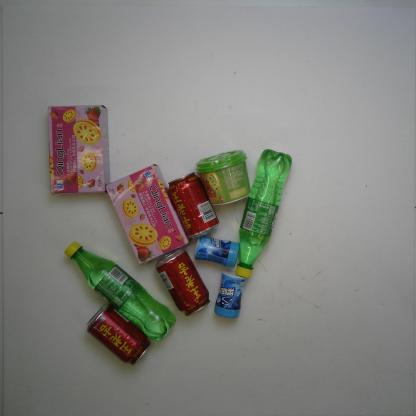Dessert: (104, 161, 194, 266), (44, 103, 112, 196)
Drink: (62, 240, 178, 344), (234, 148, 293, 279), (84, 299, 153, 368), (154, 247, 212, 318), (165, 171, 221, 241)
Gum: (213, 269, 248, 319), (193, 234, 240, 269)
Instant Drink: (194, 148, 254, 207)
